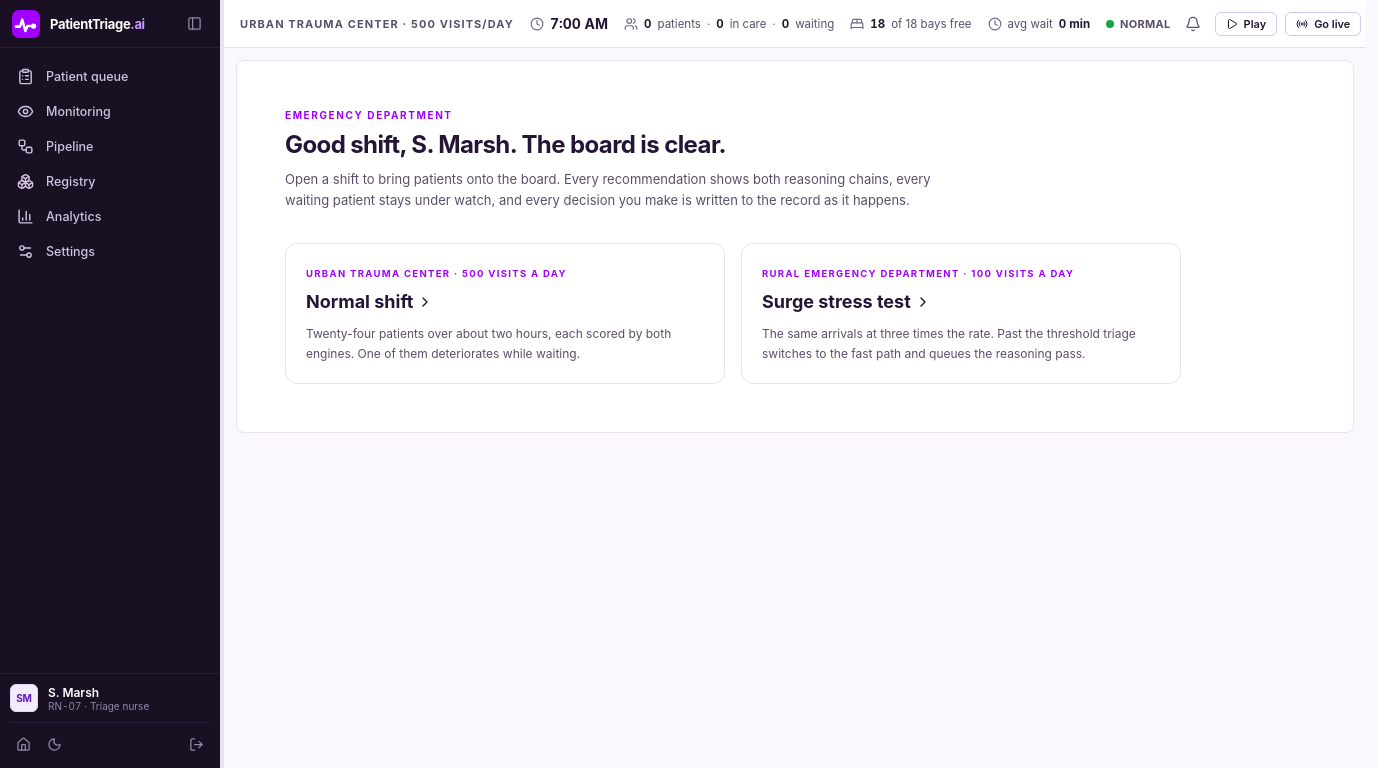
a board nobody has arrived on › opens the board as soon as a shift is chosen, before anyone arrives
Click the text "Normal shift" at (370, 302), box [306,291,434,312]
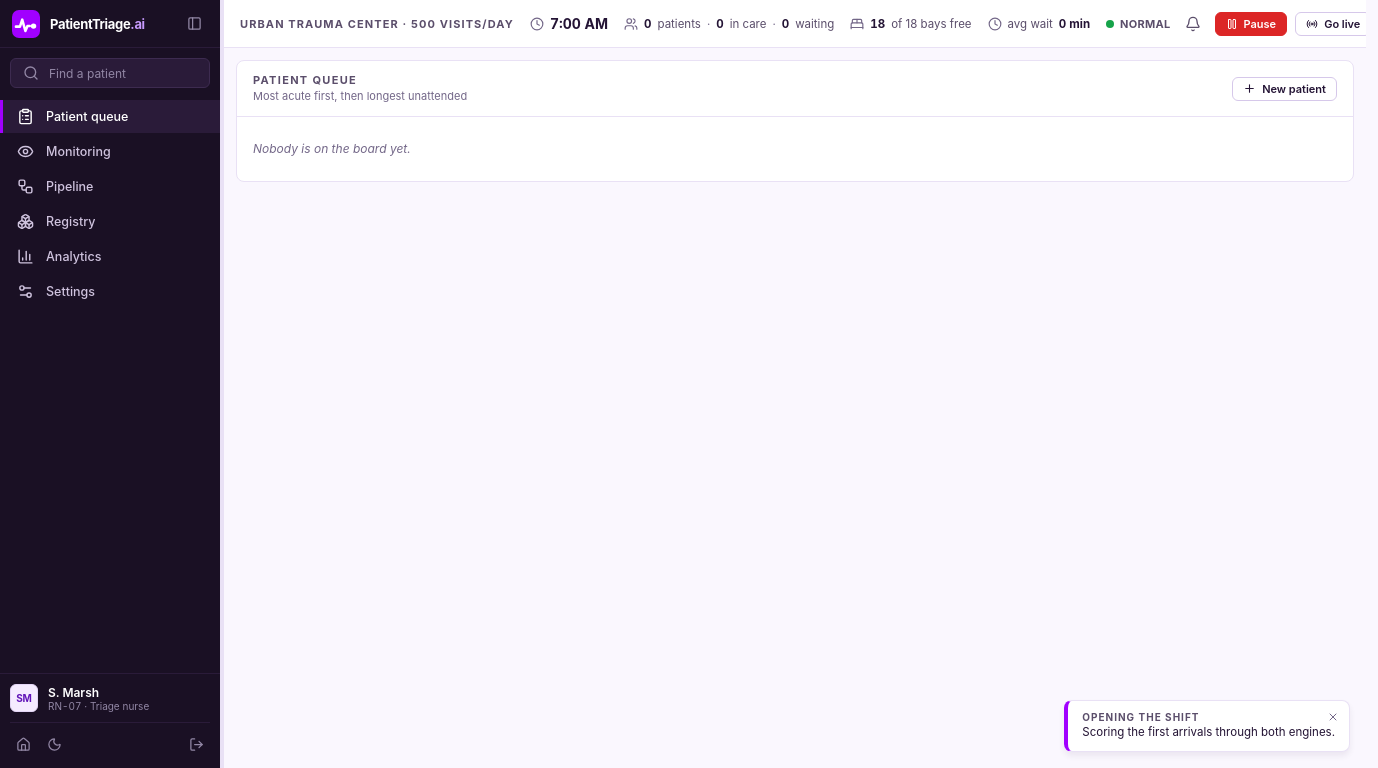
Expected: the button "Normal shift" is gone
Expected: the text "Nobody is on the board yet." is shown, [253,141,411,156]
